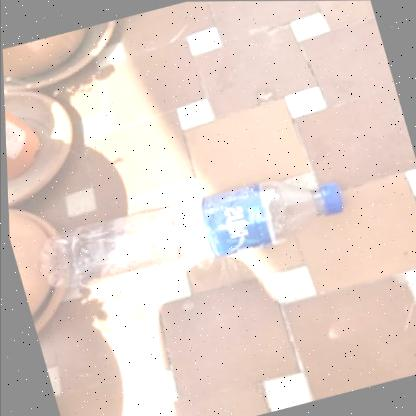Plastic Bottle: (70, 178, 344, 294)
